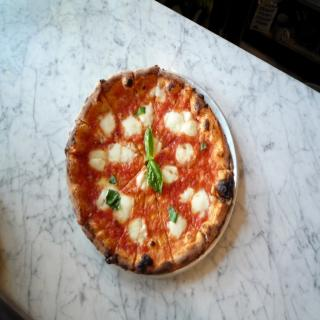Cheese: (96, 181, 134, 227), (165, 108, 198, 134), (183, 185, 208, 214), (127, 216, 147, 245), (172, 211, 191, 241), (112, 139, 138, 159), (90, 146, 107, 174), (100, 108, 116, 134), (141, 102, 157, 124), (174, 149, 197, 162), (162, 165, 178, 181), (125, 119, 144, 130), (183, 185, 194, 202)
Pizza: (160, 166, 235, 239), (156, 99, 230, 163), (154, 88, 213, 152), (160, 190, 208, 266), (135, 179, 174, 272), (65, 116, 138, 164), (82, 75, 130, 140), (109, 169, 144, 253), (110, 190, 144, 268), (70, 164, 116, 218), (103, 70, 132, 140), (152, 69, 184, 130), (134, 61, 160, 134), (88, 188, 121, 237)
